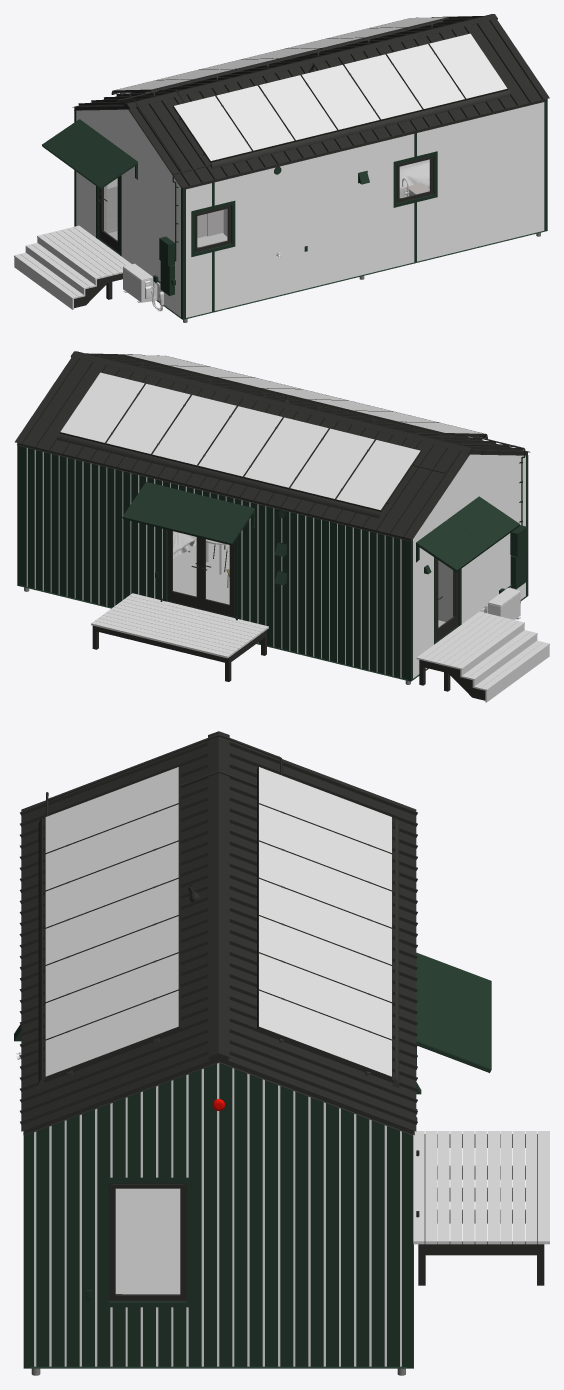
File: Studio.glb
The picture shows the model from 3 angles, top to bottom: view 1: azimuth 30°, elevation 25°; view 2: azimuth 150°, elevation 25°; view 3: azimuth 270°, elevation 25°; orthographic projection. The views are drawn at different scales.
Visible parts, largest first — view 1: Wall_e_BackWindow_S, SP_Right_S, Roof_S, Wall_e_LeftWindow_S, Deck_S, Awning_Rigth_S, SP_Left_S, Shield_Right_S, Glass_S, Frame_Around_S.001, Frame_BackWindow_S, Air_purification_S (+13 smaller); view 2: Wall_e_FrontDoor_W_S, SP_Left_S, Roof_S, Wall_e_LeftWindow_S, Wall_e_FrontDoor_S, Deck_S, Deck_Front_S, Awning_Front_S, Awning_Rigth_S, SP_Right_S, Door_GlassFront_S, Shield_Left_S (+15 smaller); view 3: Wall_e_LefttDoor_W_S, Roof_S, SP_Left_S, SP_Right_S, Wall_e_LefttDoor_S, Deck_Front_S, Awning_Front_S, Floor_S, Glass_Left_S, Frame_Around_S.001, Undersructure_Front_S, Frame_LeftWindow_S (+5 smaller).
Part boxes in pixels (x1,y1,x2,y2): Wall_e_BackWindow_S: (186, 102, 544, 317); SP_Right_S: (173, 33, 507, 162); Roof_S: (72, 14, 549, 189); Wall_e_LeftWindow_S: (76, 109, 180, 316); Deck_S: (14, 225, 131, 309); Awning_Rigth_S: (42, 119, 137, 189); SP_Left_S: (113, 17, 448, 92); Shield_Right_S: (210, 90, 510, 168); Glass_S: (197, 160, 430, 247); Frame_Around_S.001: (74, 101, 547, 319); Frame_BackWindow_S: (191, 151, 437, 256); Air_purification_S: (123, 263, 163, 311); Wall_e_FrontDoor_W_S: (20, 446, 407, 679); SP_Left_S: (59, 372, 421, 511); Roof_S: (15, 351, 530, 541); Wall_e_LeftWindow_S: (413, 454, 525, 678); Wall_e_FrontDoor_S: (26, 448, 401, 677); Deck_S: (416, 611, 549, 702); Deck_Front_S: (91, 593, 268, 658); Awning_Front_S: (122, 482, 254, 545); Awning_Rigth_S: (416, 496, 519, 572); SP_Right_S: (123, 354, 485, 435); Door_GlassFront_S: (172, 531, 229, 604); Shield_Left_S: (57, 433, 381, 518); Wall_e_LefttDoor_W_S: (30, 1063, 406, 1366); Roof_S: (19, 731, 417, 1135); SP_Left_S: (257, 766, 392, 1080); SP_Right_S: (45, 766, 180, 1079); Wall_e_LefttDoor_S: (34, 1063, 401, 1366); Deck_Front_S: (413, 1131, 549, 1244); Awning_Front_S: (416, 952, 491, 1072); Floor_S: (115, 1188, 180, 1294); Glass_Left_S: (116, 1189, 179, 1294); Frame_Around_S.001: (24, 1133, 413, 1367); Undersructure_Front_S: (418, 1134, 544, 1285); Frame_LeftWindow_S: (102, 1177, 193, 1307).
Size of the model in its own units: 10.43 by 4.29 by 6.25.
